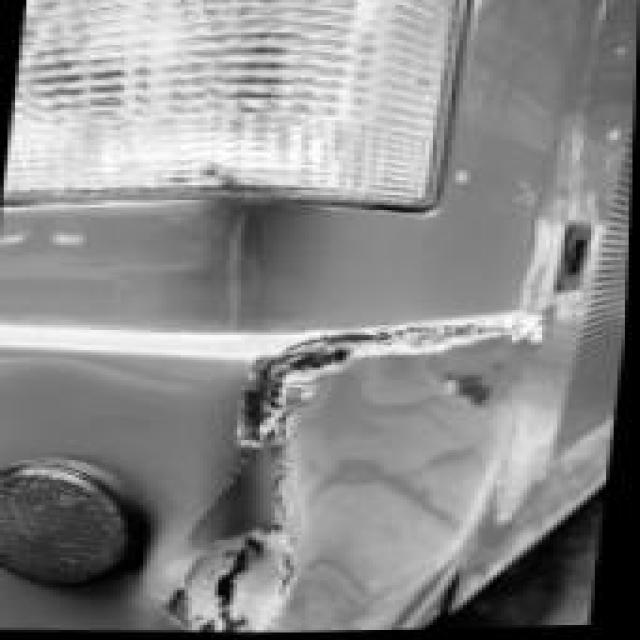Bumper: (98, 255, 600, 637)
